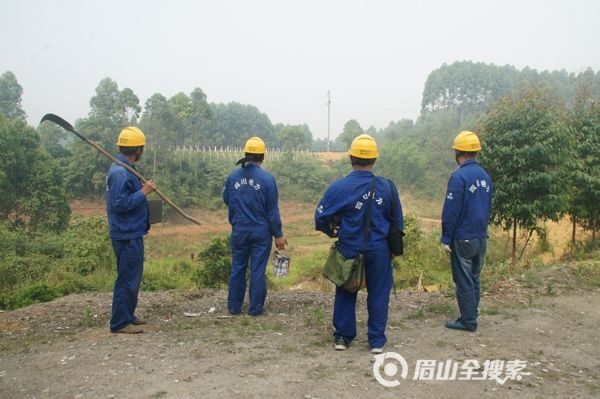yellow: (345, 134, 381, 172), (114, 125, 146, 162), (449, 129, 480, 166), (241, 135, 266, 166)
